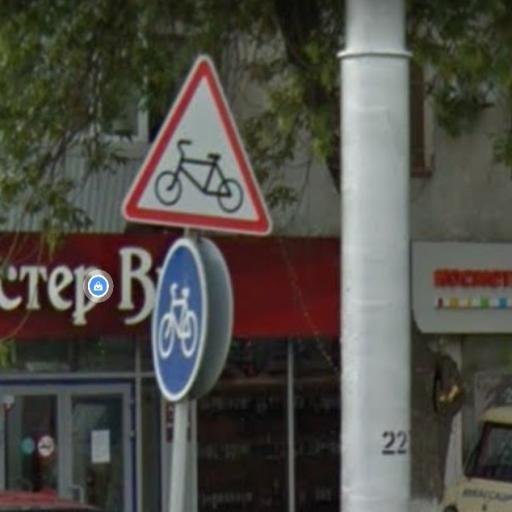traffic_sign: (120, 53, 274, 237), (150, 236, 212, 407)
